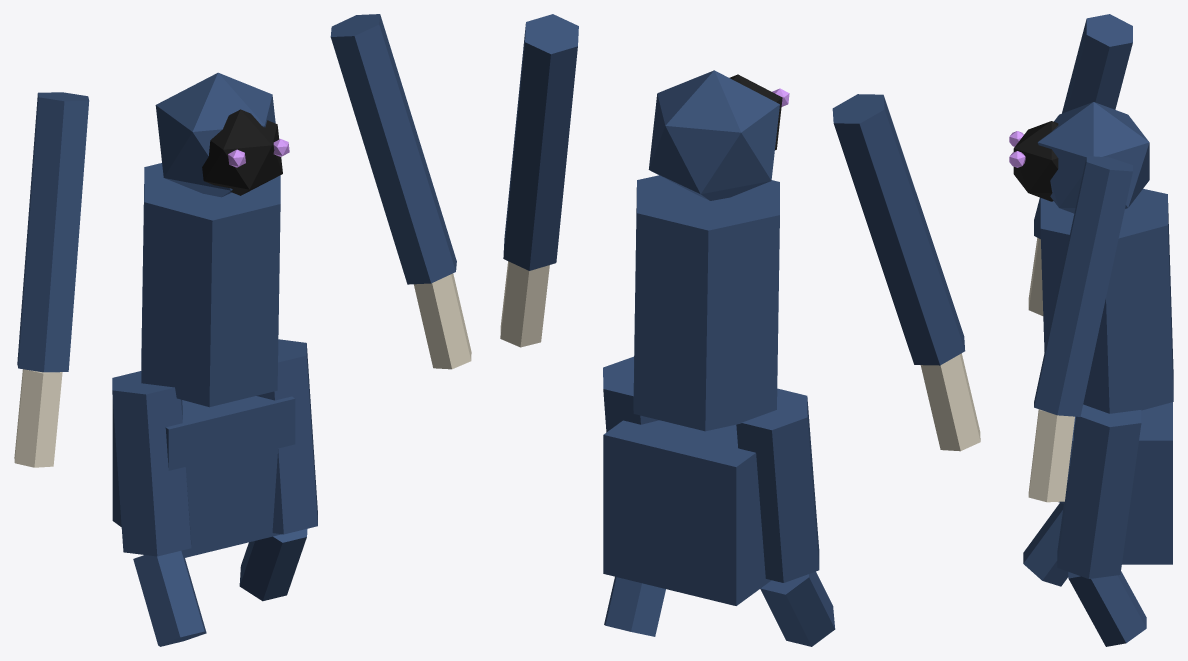
Rendered from npcpose_wraith_walk_09.glb.
3 views of the same model, side by side, from view 1: azimuth 30°, elevation 25°; view 2: azimuth 150°, elevation 25°; view 3: azimuth 270°, elevation 25° (orthographic). The views are drawn at different scales.
Visible parts, largest first — view 1: npcpose; view 2: npcpose; view 3: npcpose.
Boxes of the visible parts, left/top/right/bottom form: npcpose: left=14, top=14, right=471, bottom=646; npcpose: left=500, top=14, right=980, bottom=646; npcpose: left=1009, top=14, right=1173, bottom=646.
Bounding box in the file's own units: 0.9388 × 1.1 × 0.3123.
